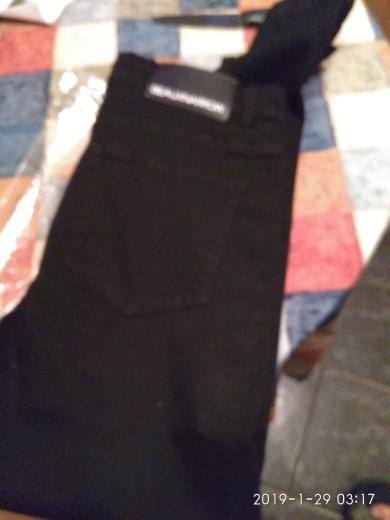jeans: (34, 61, 287, 520)
